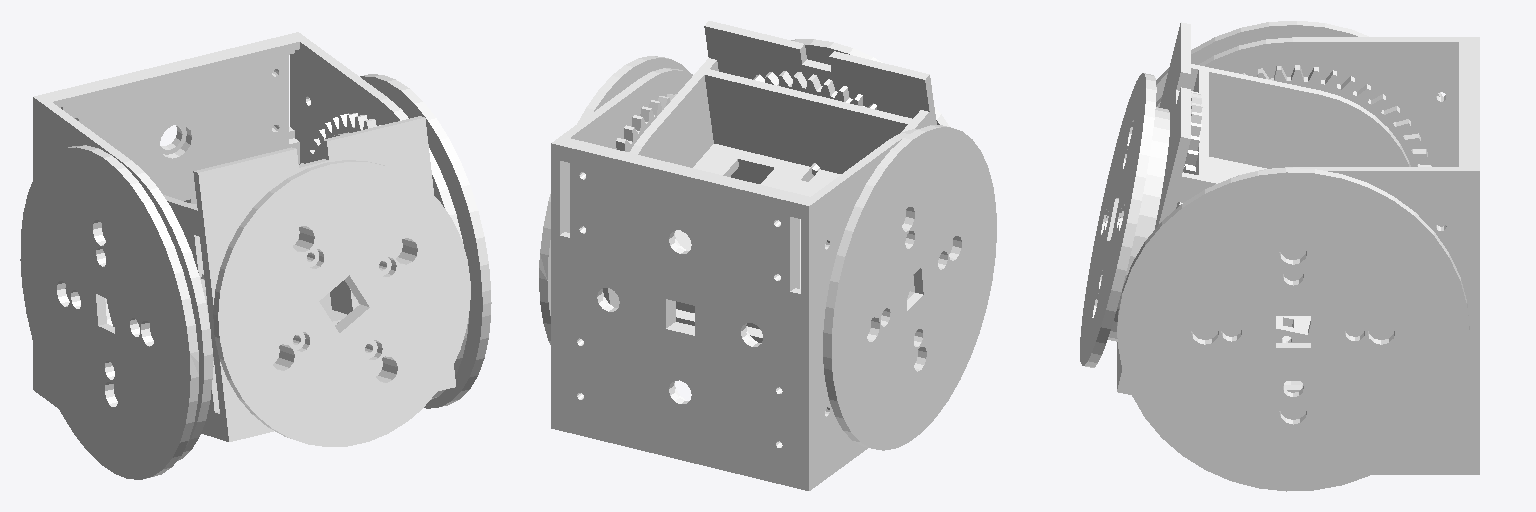
URDF robot description (FinalAssembly2):
<?xml version="1.0" encoding="utf-8"?>
<!-- This URDF was automatically created by SolidWorks to URDF Exporter! Originally created by [author] ([email redacted]) 
     Commit Version: 1.5.1-0-g916b5db  Build Version: 1.5.7152.31018
     For more information, please see http://wiki.ros.org/sw_urdf_exporter -->
<robot
  name="FinalAssembly2">
  <link
    name="Outer_Case">
    <inertial>
      <origin
        xyz="0.0211964224301851 -0.0952019746954916 0.059735847156317"
        rpy="0 0 0" />
      <mass
        value="0.104508264002408" />
      <inertia
        ixx="0.000120821067610106"
        ixy="-4.56271273363852E-16"
        ixz="-4.69289573746155E-10"
        iyy="0.000115884971342972"
        iyz="1.13338369093235E-07"
        izz="7.40633496559783E-05" />
    </inertial>
    <visual>
      <origin
        xyz="0 0 0"
        rpy="0 0 0" />
      <geometry>
        <mesh
          filename="package://gp_abstract_sim/models/Final_Assembly2/meshes/Outer Case.STL" />
      </geometry>
      <material
        name="">
        <color
          rgba="1 1 1 0.3" />
      </material>
    </visual>
    <collision>
      <origin
        xyz="0 0 0"
        rpy="0 0 0" />
      <geometry>
        <mesh
          filename="package://gp_abstract_sim/models/Final_Assembly2/meshes/Outer Case.STL" />
      </geometry>
    </collision>
  </link>
  <link
    name="Right_Wheel">
    <inertial>
      <origin
        xyz="-2.08166817117217E-16 -2.4980018054066E-16 0.00371328002115152"
        rpy="0 0 0" />
      <mass
        value="0.0363036221414246" />
      <inertia
        ixx="2.03748403765877E-05"
        ixy="1.05879118406788E-21"
        ixz="-1.11537415958963E-21"
        iyy="2.03748403765877E-05"
        iyz="1.41124772685827E-21"
        izz="4.06952253199633E-05" />
    </inertial>
    <visual>
      <origin
        xyz="0 0 0"
        rpy="0 0 0" />
      <geometry>
        <mesh
          filename="package://gp_abstract_sim/models/Final_Assembly2/meshes/Right Wheel.STL" />
      </geometry>
      <material
        name="">
        <color
          rgba="1 1 1 0.3" />
      </material>
    </visual>
    <collision>
      <origin
        xyz="0 0 0"
        rpy="0 0 0" />
      <geometry>
        <mesh
          filename="package://gp_abstract_sim/models/Final_Assembly2/meshes/Right Wheel.STL" />
      </geometry>
    </collision>
  </link>
  <joint
    name="right_wheel_joint"
    type="revolute">
    <origin
      xyz="-0.0238034034066179 -0.124756457031082 0.0601611747722259"
      rpy="1.5707963267949 1.42813262544932 -1.5707963267949" />
    <parent
      link="Outer_Case" />
    <child
      link="Right_Wheel" />
    <axis
      xyz="0 0 1" />
    <limit effort="-1.0" lower="-1.79769e+308" upper="1.79769e+308" velocity="-1.0"/>
  </joint>
  <link
    name="Left_Wheel">
    <inertial>
      <origin
        xyz="0.00149999999999982 -2.63677968348475E-16 -4.92661467177413E-16"
        rpy="0 0 0" />
      <mass
        value="0.0267833605270158" />
      <inertia
        ixx="3.47522154379326E-05"
        ixy="-3.75937281929115E-23"
        ixz="1.19533931376837E-21"
        iyy="1.73961952393616E-05"
        iyz="1.22487104186169E-23"
        izz="1.73961952393616E-05" />
    </inertial>
    <visual>
      <origin
        xyz="0 0 0"
        rpy="0 0 0" />
      <geometry>
        <mesh
          filename="package://gp_abstract_sim/models/Final_Assembly2/meshes/Left Wheel.STL" />
      </geometry>
      <material
        name="">
        <color
          rgba="1 1 1 0.3" />
      </material>
    </visual>
    <collision>
      <origin
        xyz="0 0 0"
        rpy="0 0 0" />
      <geometry>
        <mesh
          filename="package://gp_abstract_sim/models/Final_Assembly2/meshes/Left Wheel.STL" />
      </geometry>
    </collision>
  </link>
  <joint
    name="left_wheel_joint"
    type="revolute">
    <origin
      xyz="0.0691965965933822 -0.124756457031083 0.0601611747722257"
      rpy="3.14159265358979 0 0" />
    <parent
      link="Outer_Case" />
    <child
      link="Left_Wheel" />
    <axis
      xyz="-1 0 0" />
    <limit effort="-1.0" lower="-1.79769e+308" upper="1.79769e+308" velocity="-1.0"/>
  </joint>
  <link
    name="Inner_Gears">
    <inertial>
      <origin
        xyz="-8.53483950180589E-16 6.10622663543836E-16 0.021196596593382"
        rpy="0 0 0" />
      <mass
        value="0.0234483182004593" />
      <inertia
        ixx="1.1387450025414E-05"
        ixy="-1.16467030247466E-21"
        ixz="-2.19677351004307E-21"
        iyy="1.1387450025414E-05"
        iyz="1.37546304476603E-21"
        izz="2.27397275735273E-05" />
    </inertial>
    <visual>
      <origin
        xyz="0 0 0"
        rpy="0 0 0" />
      <geometry>
        <mesh
          filename="package://gp_abstract_sim/models/Final_Assembly2/meshes/Inner Gears.STL" />
      </geometry>
      <material
        name="">
        <color
          rgba="1 1 1 0.3" />
      </material>
    </visual>
    <collision>
      <origin
        xyz="0 0 0"
        rpy="0 0 0" />
      <geometry>
        <mesh
          filename="package://gp_abstract_sim/models/Final_Assembly2/meshes/Inner Gears.STL" />
      </geometry>
    </collision>
  </link>
  <joint
    name="face_mover_joint"
    type="revolute">
    <origin
      xyz="0 -0.124756457031082 0.060161174772226"
      rpy="1.5707963267949 -1.43922604589227 1.5707963267949" />
    <parent
      link="Outer_Case" />
    <child
      link="Inner_Gears" />
    <axis
      xyz="0 0 -1" />
    <limit effort="-1.0" lower="-0e+308" upper="0e+308" velocity="-1.0"/>
  </joint>
  <link
    name="Inner_Case">
    <inertial>
      <origin
        xyz="0.0162884249022683 0.034590690767926 0.0384371285183222"
        rpy="0 0 0" />
      <mass
        value="0.166645334643581" />
      <inertia
        ixx="0.000112680015125093"
        ixy="-4.32609439901599E-08"
        ixz="-1.97390819243312E-07"
        iyy="8.64224818532499E-05"
        iyz="3.90158468022678E-10"
        izz="7.93874942396971E-05" />
    </inertial>
    <visual>
      <origin
        xyz="0 0 0"
        rpy="0 0 0" />
      <geometry>
        <mesh
          filename="package://gp_abstract_sim/models/Final_Assembly2/meshes/Inner Case.STL" />
      </geometry>
      <material
        name="">
        <color
          rgba="1 1 1 0.3" />
      </material>
    </visual>
    <collision>
      <origin
        xyz="0 0 0"
        rpy="0 0 0" />
      <geometry>
        <mesh
          filename="package://gp_abstract_sim/models/Final_Assembly2/meshes/Inner Case.STL" />
      </geometry>
    </collision>
  </link>
  <joint
    name="Inner_Case_joint"
    type="fixed">
    <origin
      xyz="-0.030972105261133 0.0450525104260948 -0.0168034034066179"
      rpy="0 0 -1.66326980019875" />
    <parent
      link="Inner_Gears" />
    <child
      link="Inner_Case" />
    <axis
      xyz="0 0 0" />
  </joint>
  <gazebo>
    <plugin name="my_speed_controller_plugin" filename="libmy_speed_controller_plugin.so">
      <namespace_model>GPabstractV2</namespace_model>
      <activate_pid_control>no</activate_pid_control>                
      <wheel_kp>0.1</wheel_kp>
      <wheel_ki>0.0</wheel_ki>
      <wheel_kd>0.0</wheel_kd>
	  </plugin>
  </gazebo>
</robot>

--- Facts derived from the render (not from the file) ---
3 views of the same robot in one strip: view 1: azimuth 30°, elevation 25°; view 2: azimuth 150°, elevation 25°; view 3: azimuth 270°, elevation 25° (orthographic).
Robot: FinalAssembly2 — 5 links, 4 joints (3 revolute, 1 fixed); root link Outer_Case; default pose: all joints at 0.
Visible links, largest first — view 1: Inner_Case, Right_Wheel, Outer_Case, Left_Wheel, Inner_Gears; view 2: Outer_Case, Right_Wheel, Inner_Case, Left_Wheel, Inner_Gears; view 3: Left_Wheel, Inner_Case, Outer_Case, Inner_Gears, Right_Wheel.
Link boxes in pixels (bbox=[...]): Inner_Case: bbox=[107, 116, 470, 446]; Right_Wheel: bbox=[20, 145, 198, 479]; Outer_Case: bbox=[33, 32, 468, 460]; Left_Wheel: bbox=[360, 74, 491, 408]; Inner_Gears: bbox=[105, 113, 380, 325]; Outer_Case: bbox=[551, 68, 917, 490]; Right_Wheel: bbox=[823, 125, 996, 450]; Inner_Case: bbox=[603, 21, 949, 342]; Left_Wheel: bbox=[539, 56, 689, 344]; Inner_Gears: bbox=[616, 94, 914, 299]; Left_Wheel: bbox=[1117, 168, 1469, 491]; Inner_Case: bbox=[1080, 22, 1410, 394]; Outer_Case: bbox=[1156, 37, 1479, 474]; Inner_Gears: bbox=[1243, 65, 1431, 384]; Right_Wheel: bbox=[1156, 21, 1442, 101].
Size in the robot's own frame: 0.102 by 0.1136 by 0.1054 metres.
Meshes: 5 distinct files referenced, 5 mesh visuals loaded (5 binary STL).